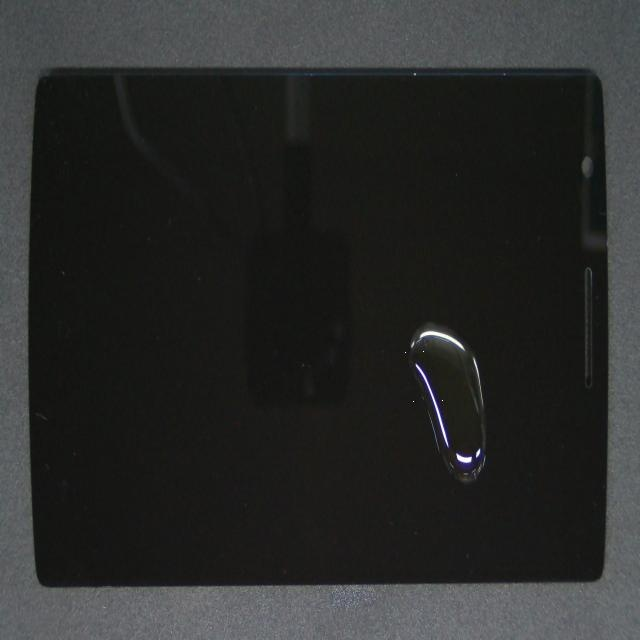oil: (224, 144, 629, 488)
